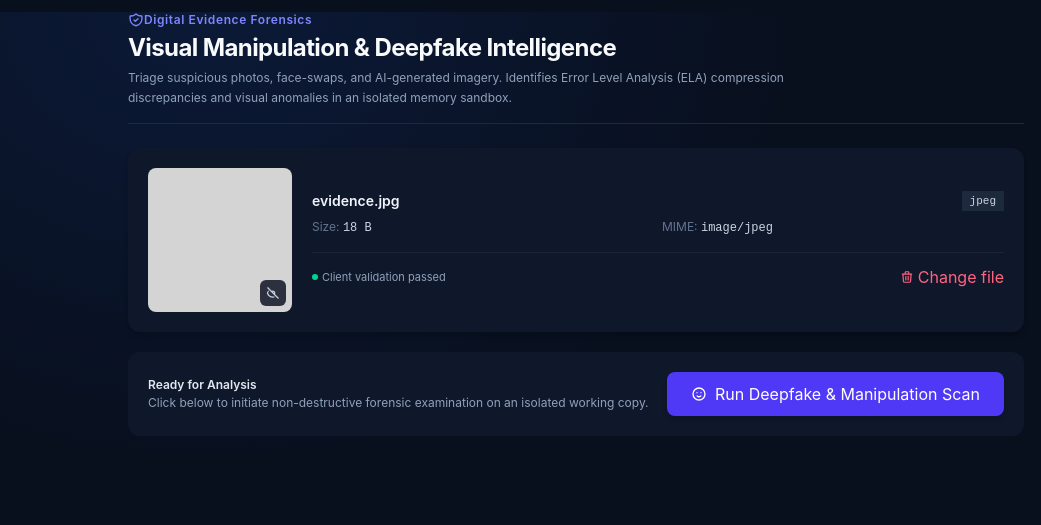
Test: SafeImageAnalysisWorkflow Component › handles network failure gracefully
Earlier steps of the test are not shown.
Click the button "Run Deepfake & Manipulation Scan". click: x=836, y=394
box: left=667, top=372, right=1004, bottom=416
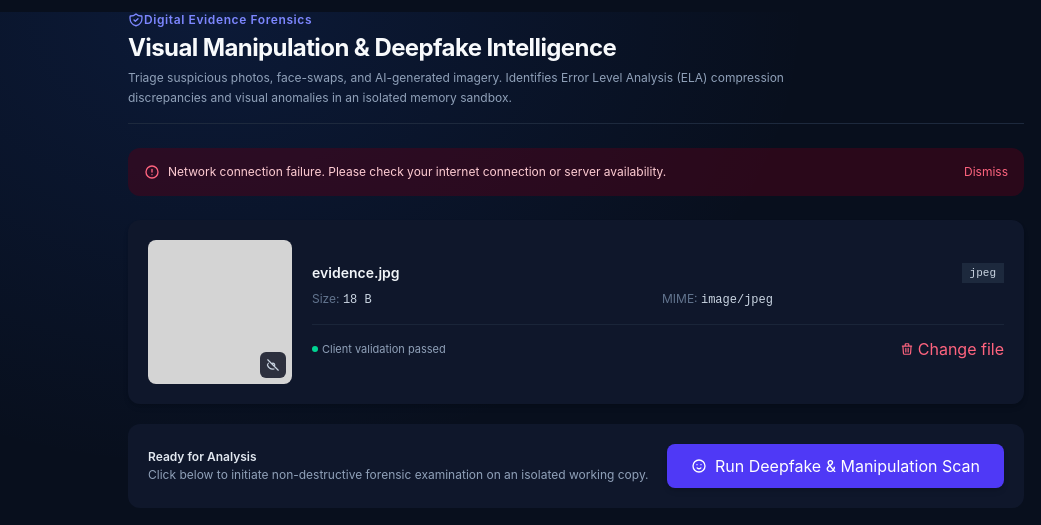
Expected: the message shows "Network connection failure. Please check your internet connection or server availability", left=168, top=164, right=666, bottom=179
